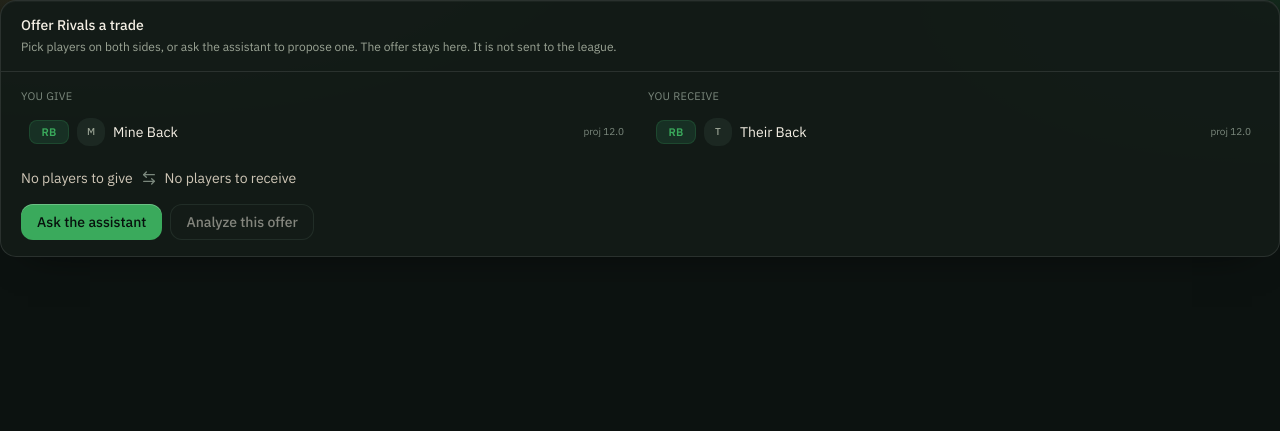
TradeOffer › asks the assistant about that team and can analyze a picked offer
Step 1. Click the button with test id "ask-trade" → [92, 222], box top-left (21, 204), bottom-right (162, 240)
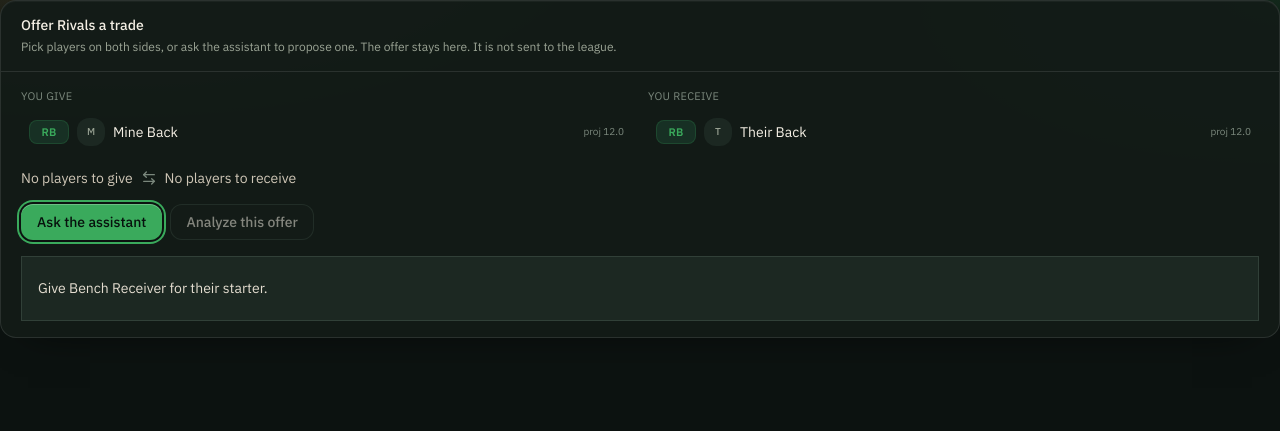
Expected: the element with test id "trade-advice" shows "Give Bench Receiver", top-left (38, 279), bottom-right (268, 297)
Step 2. Click the text "Mine Back" → [145, 132], box top-left (113, 122), bottom-right (178, 142)
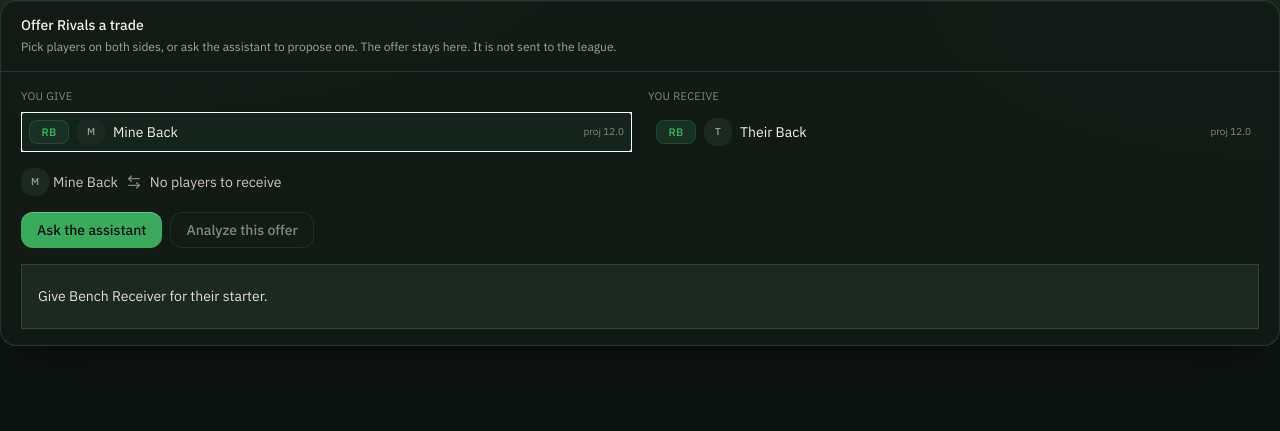
Step 3. Click the text "Their Back" → [773, 132], box top-left (740, 122), bottom-right (807, 142)
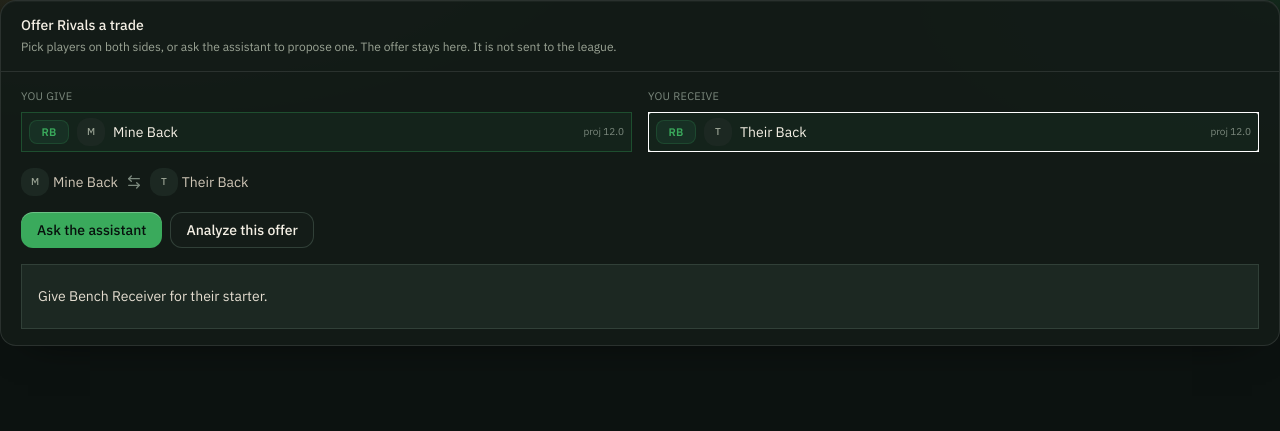
Step 4. Click the button with test id "analyze-offer" → [242, 230], box top-left (170, 212), bottom-right (314, 248)
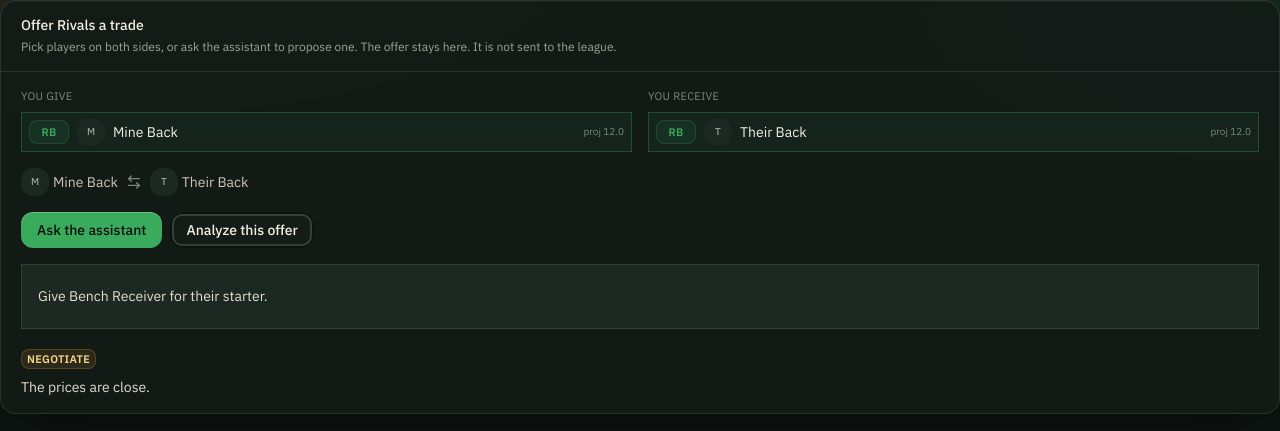
Expected: the element with test id "trade-result" shows "NEGOTIATE", top-left (27, 352), bottom-right (90, 366)
